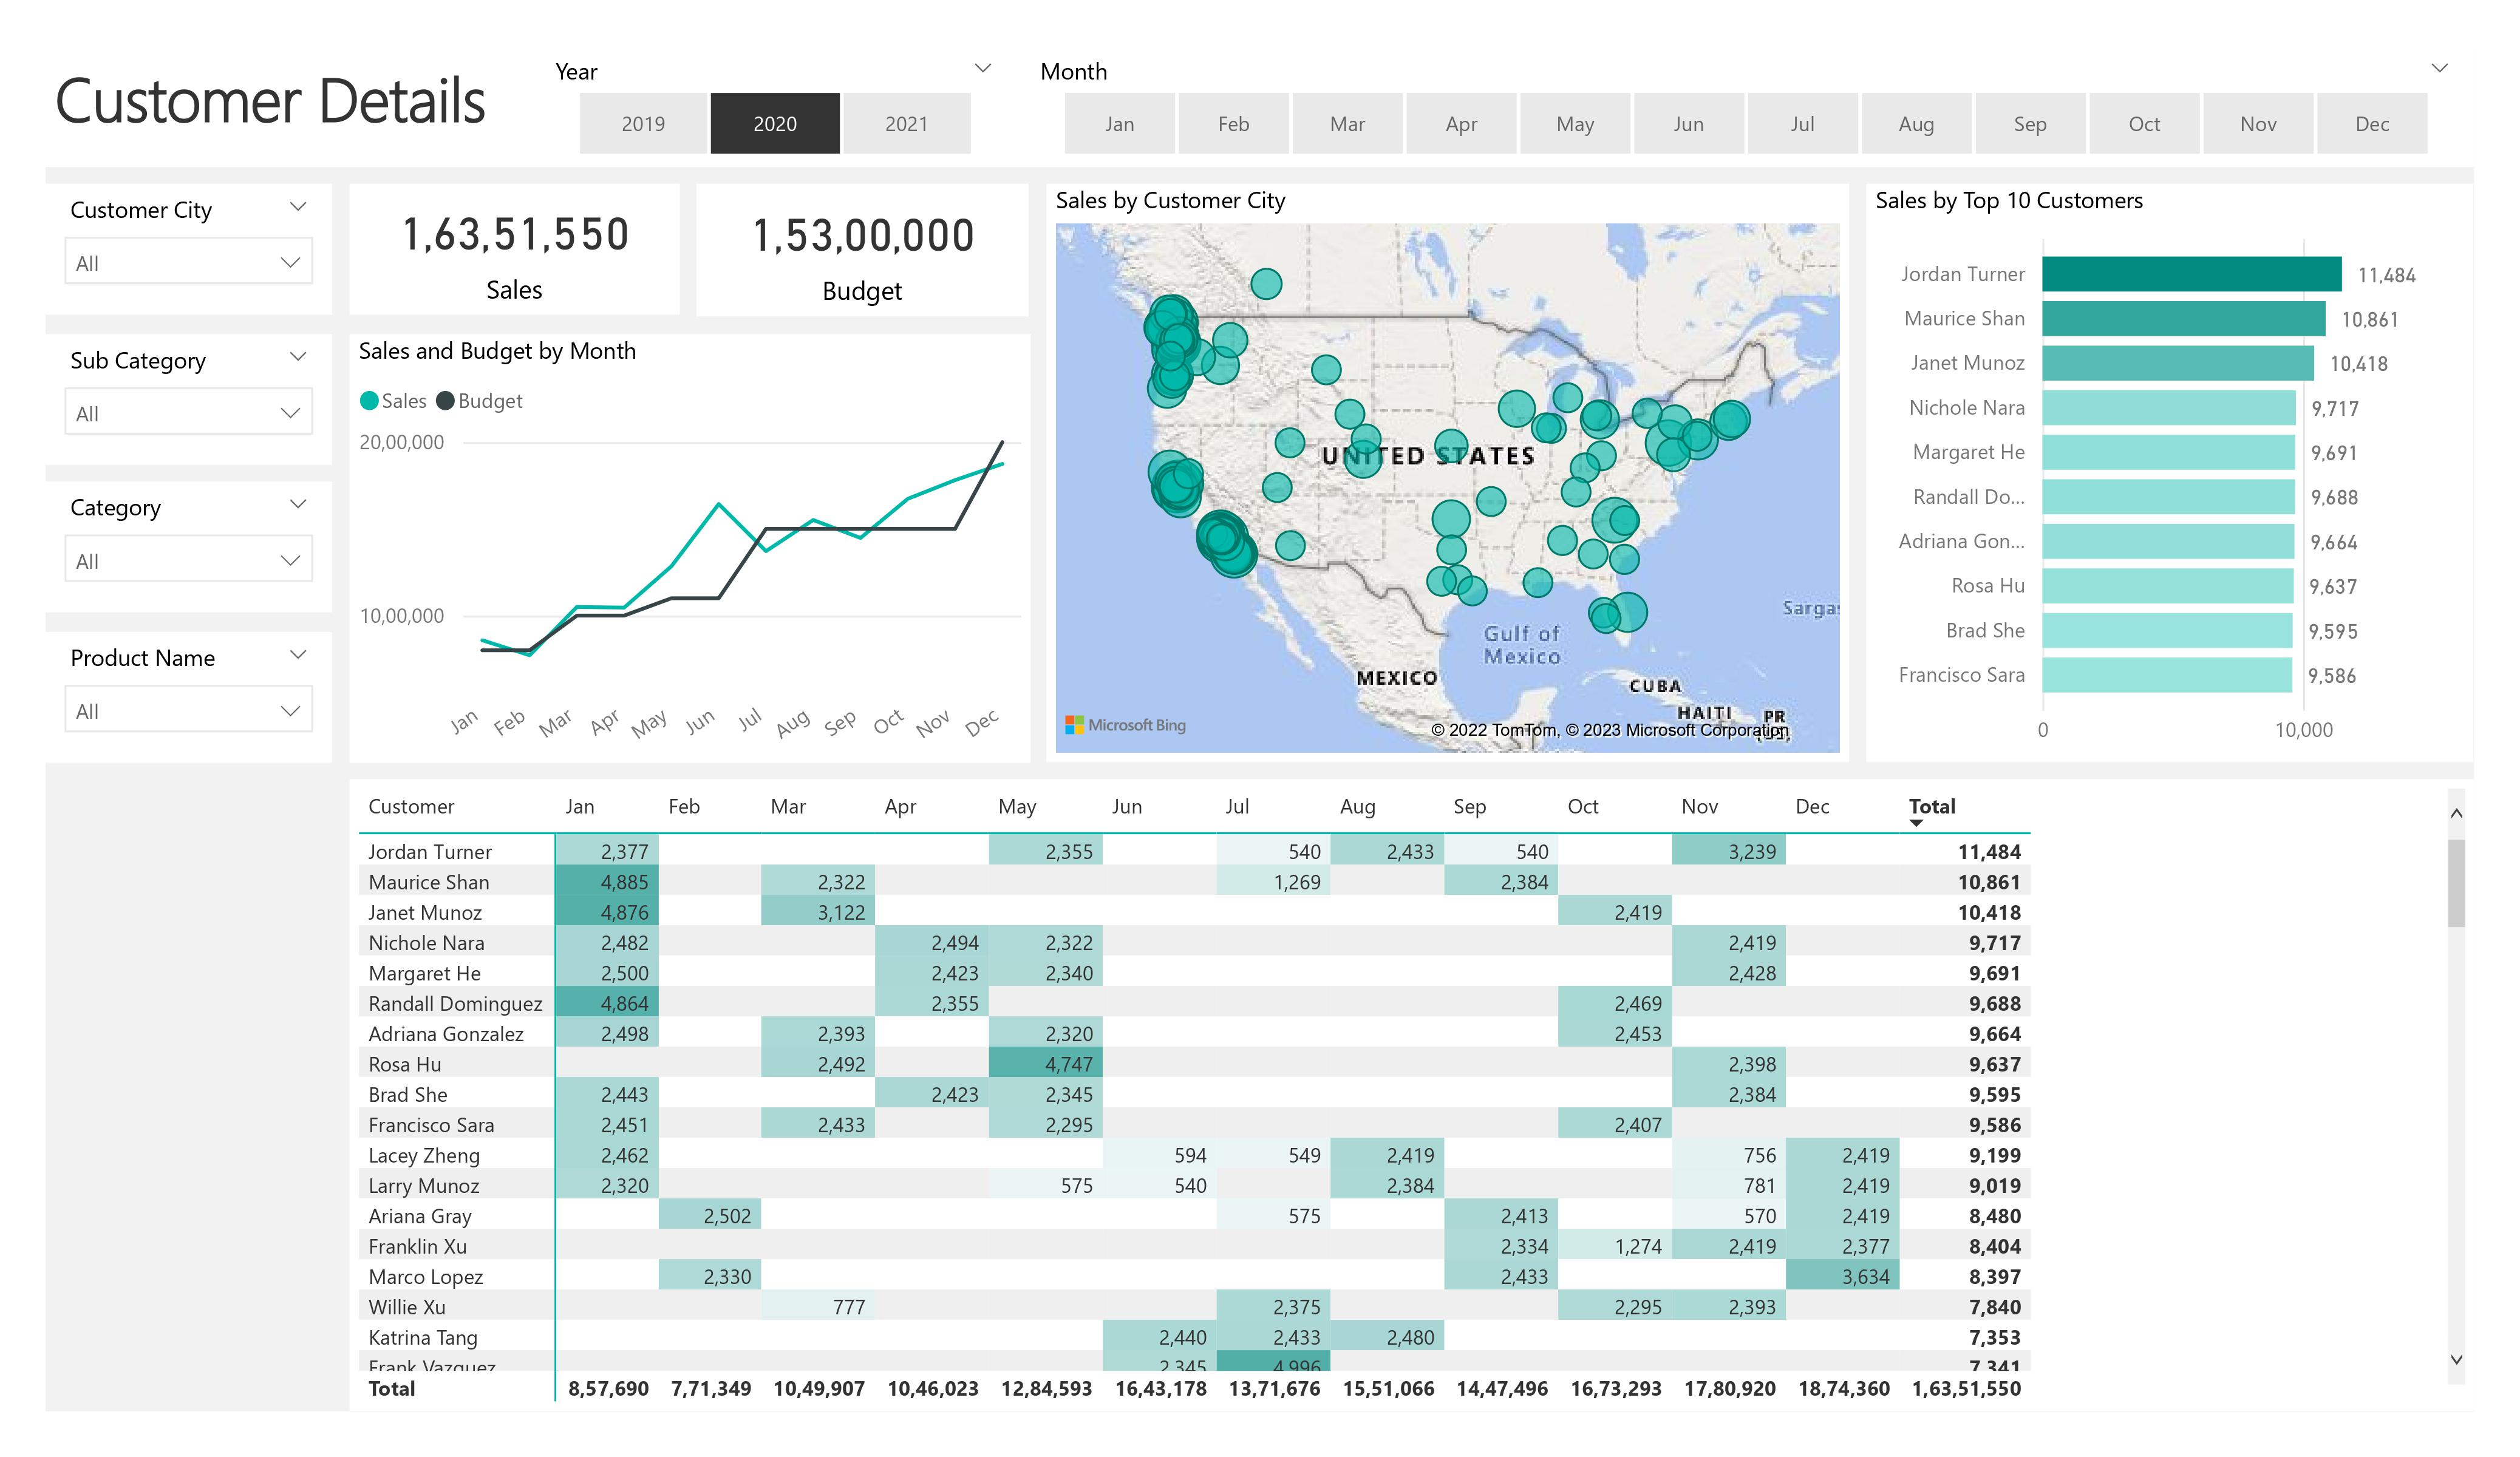

Layout of this report page (visuals, bound fields, positions):
{"tool":"powerbi","page":{"name":"Customer Details","canvas":[1280,720],"ordinal":1},"visuals":[{"type":"textbox","box":[0,0,1280,64],"z":0},{"type":"slicer","fields":{"Values":["DIM_Calendar.Year"]},"box":[256,0,256,64],"z":1000},{"type":"slicer","fields":{"Values":["DIM_Calendar.MonthShort"]},"box":[512,0,768,64],"z":2000},{"type":"slicer","fields":{"Values":["DIM_Customers.Customer City"]},"box":[0,73,150.5,69.3],"z":3000},{"type":"slicer","fields":{"Values":["DIM_Products.Product Category"]},"box":[0,229.9,150.5,69.3],"z":4000},{"type":"slicer","fields":{"Values":["DIM_Products.Product Name"]},"box":[0,308.4,150.5,69.3],"z":5000},{"type":"slicer","fields":{"Values":["DIM_Products.Sub Category"]},"box":[0,151.4,150.5,69.3],"z":6000},{"type":"lineChart","fields":{"Category":["DIM_Calendar.MonthShort"],"Y":["Analysis Metrics.Sales","Analysis Metrics.Budget"]},"box":[159.8,151.8,358.7,226.4],"z":7000},{"type":"card","fields":{"Values":["Analysis Metrics.Sales"]},"box":[160.7,72.8,174,69.2],"z":8000},{"type":"map","fields":{"Category":["DIM_Customers.Customer City"],"Size":["Analysis Metrics.Sales"]},"box":[527.3,72.8,423.5,304.5],"z":9000},{"type":"card","fields":{"Values":["Analysis Metrics.Budget"]},"box":[343.6,72.8,174.9,70.1],"z":10000},{"type":"pivotTable","fields":{"Rows":["DIM_Customers.Full Name"],"Columns":["DIM_Calendar.MonthShort"],"Values":["Analysis Metrics.Sales"]},"box":[159.8,387.1,1120.4,332.9],"z":11000},{"type":"barChart","title":"Sales by Top 10 Customers","fields":{"Category":["DIM_Customers.Full Name"],"Y":["Analysis Metrics.Sales"]},"box":[959.7,72.8,320.5,304.5],"z":12000}]}

Visuals, with their boxes on the page's 1280x720 design canvas (x1, y1, x2, y2). These are canvas units, not pixel positions in the 2520x1457 screenshot, which may show the page scaled, cropped or inside an application window:
textbox: bbox=[0, 0, 1280, 64]
slicer - DIM_Calendar.Year: bbox=[256, 0, 512, 64]
slicer - DIM_Calendar.MonthShort: bbox=[512, 0, 1280, 64]
slicer - DIM_Customers.Customer City: bbox=[0, 73, 150, 142]
slicer - DIM_Products.Product Category: bbox=[0, 230, 150, 299]
slicer - DIM_Products.Product Name: bbox=[0, 308, 150, 378]
slicer - DIM_Products.Sub Category: bbox=[0, 151, 150, 221]
lineChart - DIM_Calendar.MonthShort x Analysis Metrics.Sales: bbox=[160, 152, 518, 378]
card - Analysis Metrics.Sales: bbox=[161, 73, 335, 142]
map - DIM_Customers.Customer City x Analysis Metrics.Sales: bbox=[527, 73, 951, 377]
card - Analysis Metrics.Budget: bbox=[344, 73, 518, 143]
pivotTable - DIM_Customers.Full Name x DIM_Calendar.MonthShort: bbox=[160, 387, 1280, 720]
"Sales by Top 10 Customers" barChart: bbox=[960, 73, 1280, 377]
